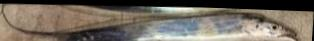fish: (5, 9, 298, 40), (1, 3, 8, 11)
